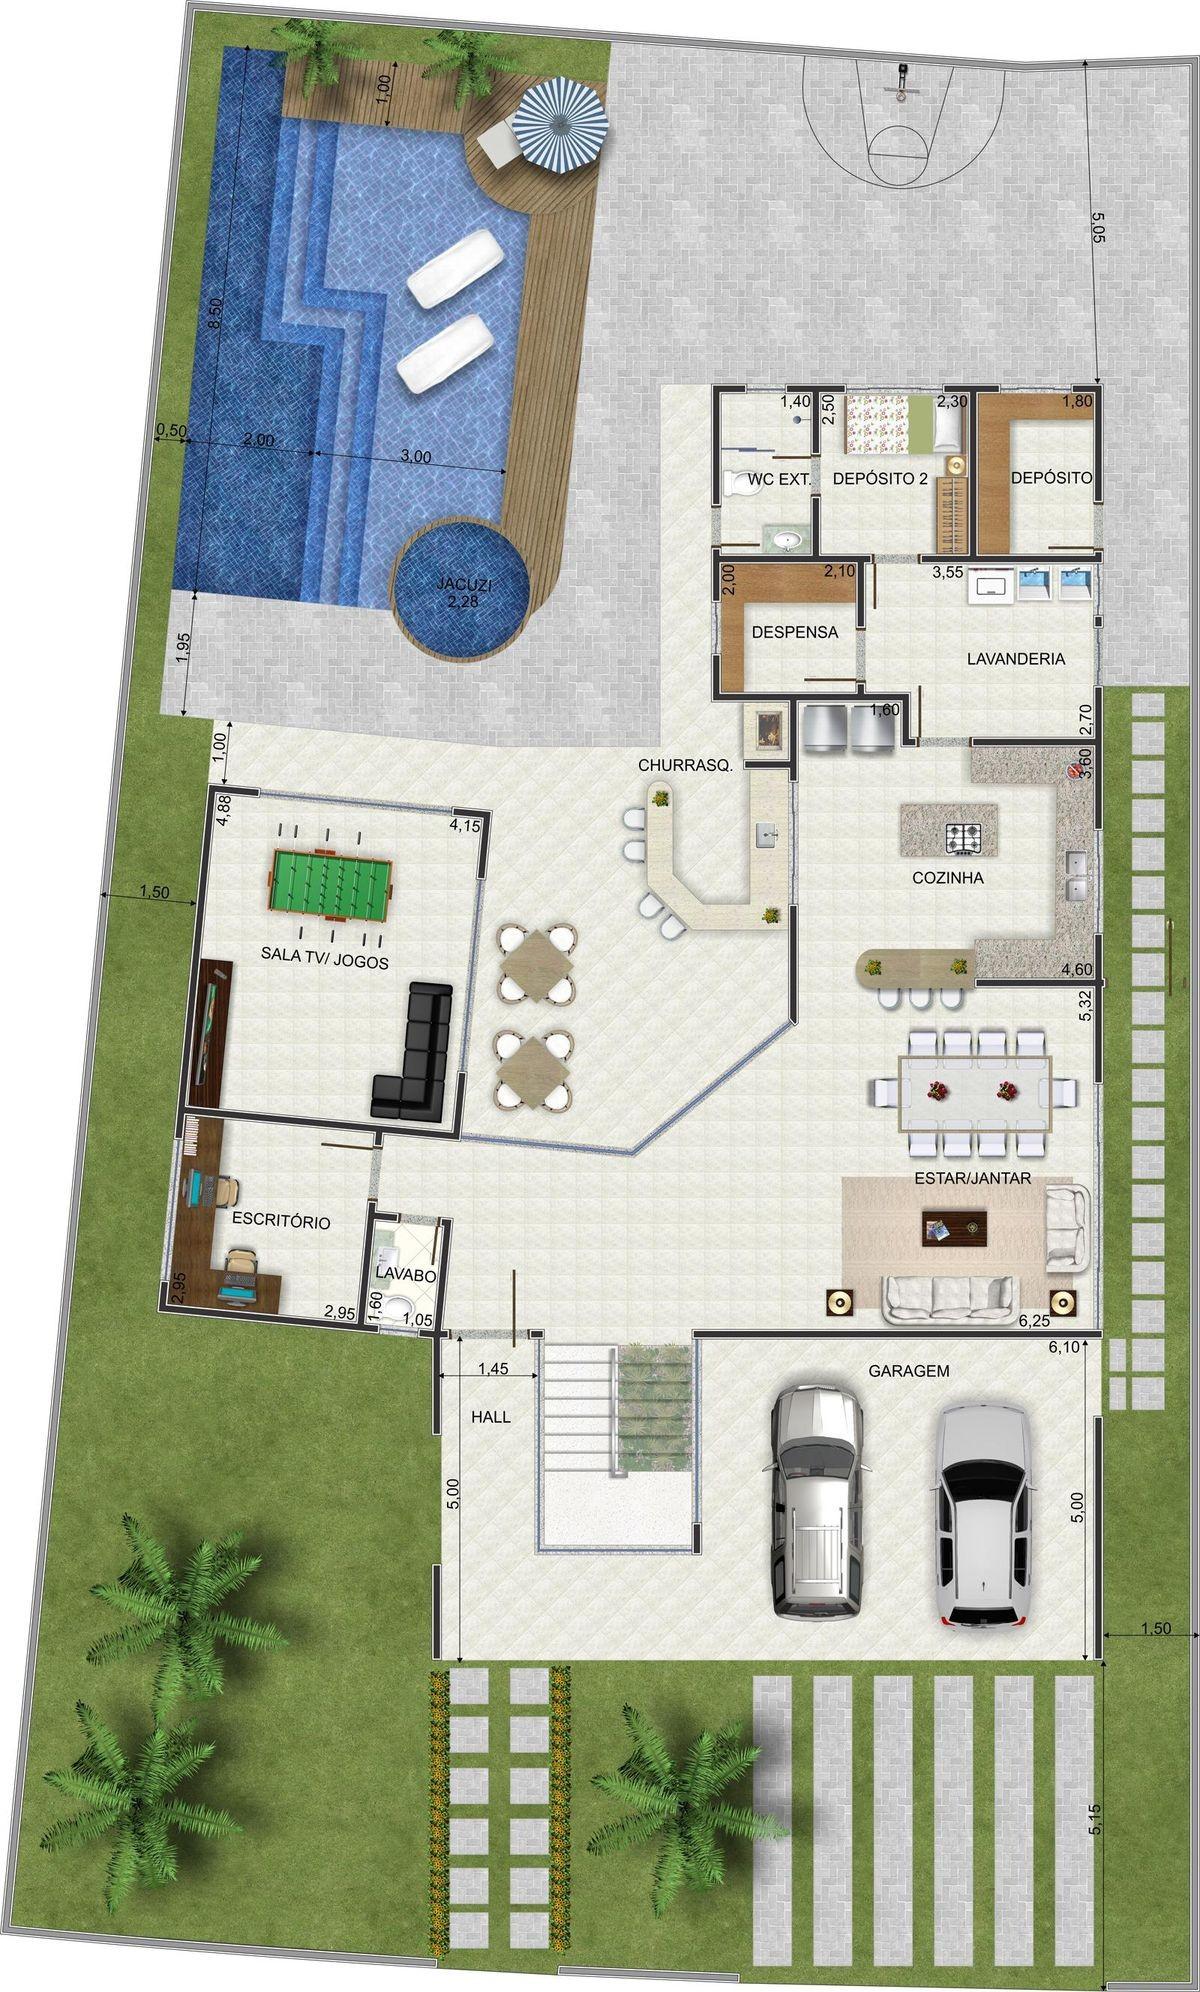wall: (695, 1330, 1102, 1337), (1095, 1419, 1102, 1659), (922, 553, 1100, 561), (969, 384, 977, 561), (715, 693, 910, 699), (1095, 935, 1102, 1081), (710, 555, 871, 561), (712, 384, 719, 504), (1095, 384, 1102, 504), (1095, 689, 1100, 830), (974, 738, 1100, 744), (977, 979, 1103, 985), (811, 497, 821, 562), (433, 1567, 440, 1658), (790, 906, 796, 1019), (434, 1330, 440, 1431), (811, 386, 820, 452), (790, 694, 796, 780), (858, 553, 864, 627), (944, 384, 1002, 391), (713, 551, 720, 600), (902, 693, 910, 741), (784, 386, 844, 391), (713, 655, 719, 699), (693, 1522, 700, 1555), (746, 761, 794, 765), (1075, 384, 1102, 391), (420, 1330, 446, 1337), (713, 386, 743, 391), (858, 684, 865, 699), (530, 1330, 544, 1337), (902, 738, 915, 746)
